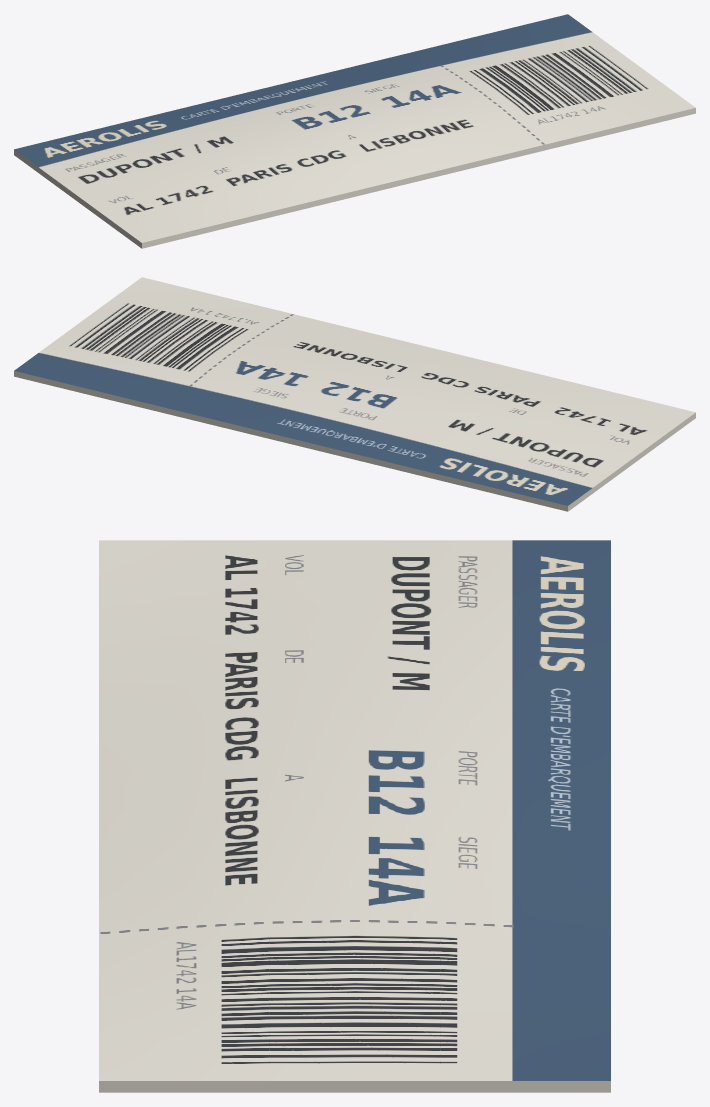
The model's file is carte_embarquement.glb.
3 views of the same model, one above another, from view 1: azimuth 30°, elevation 25°; view 2: azimuth 150°, elevation 25°; view 3: azimuth 270°, elevation 25° (orthographic). The views are drawn at different scales.
Parts seen in each view (by area): view 1: CEM_Carte; view 2: CEM_Carte; view 3: CEM_Carte.
Part boxes in pixels (<box>): CEM_Carte: <box>14,14,695,248</box>; CEM_Carte: <box>14,277,695,511</box>; CEM_Carte: <box>99,540,610,1092</box>.
Size of the model in its own units: 0.2 by 0.0048 by 0.08.
Materials: 1 (1 with a texture image).
